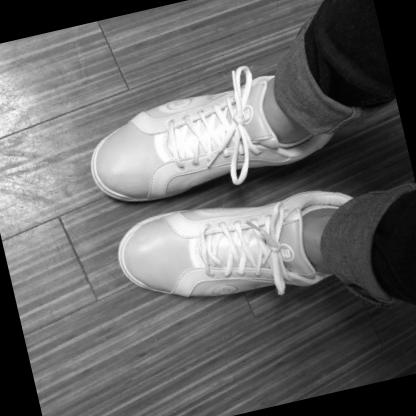ankle: (280, 146, 287, 153), (311, 201, 317, 207)
heel: (340, 197, 345, 202), (323, 136, 328, 140)
left_foot: (81, 63, 343, 214)
pinky: (164, 286, 169, 291), (119, 129, 124, 133)
right_foot: (111, 172, 368, 318)
toe: (119, 190, 125, 195), (143, 225, 148, 229)
